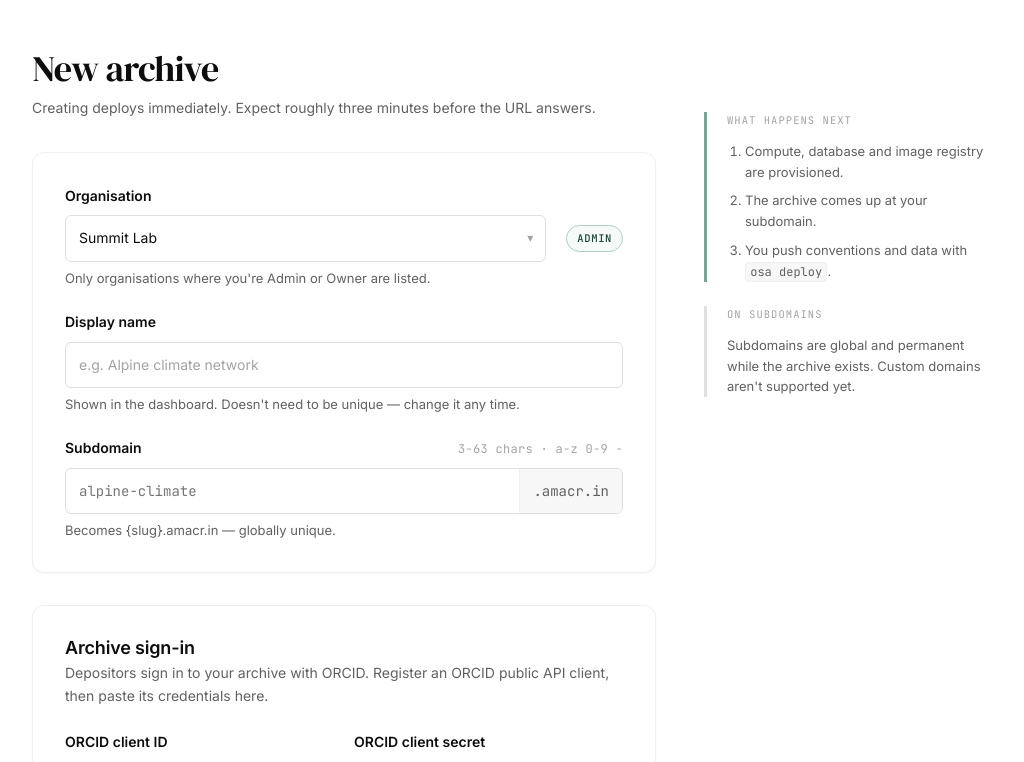
Test case: CreateArchiveForm › shows the availability hint once the subdomain format is valid
Type "new-atlas" into the field labelled "Subdomain" at (293, 491), box [66,469,519,513]
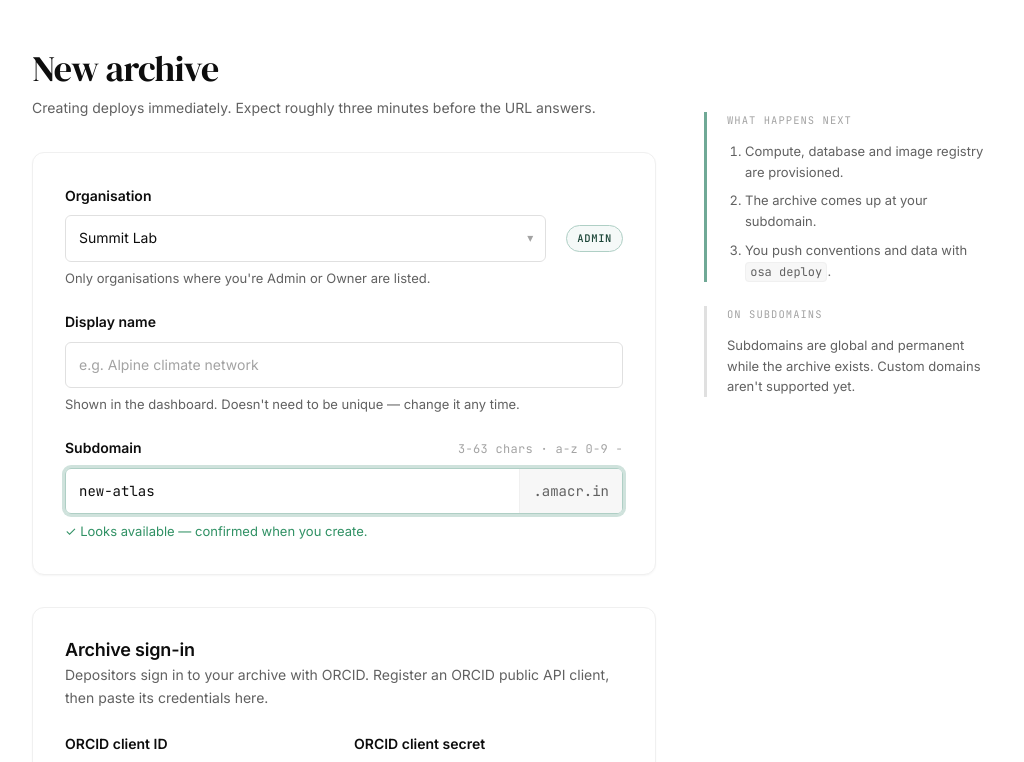
expect the text "✓ Looks available — confirmed when you create." is shown: met, box [65,523,368,539]
